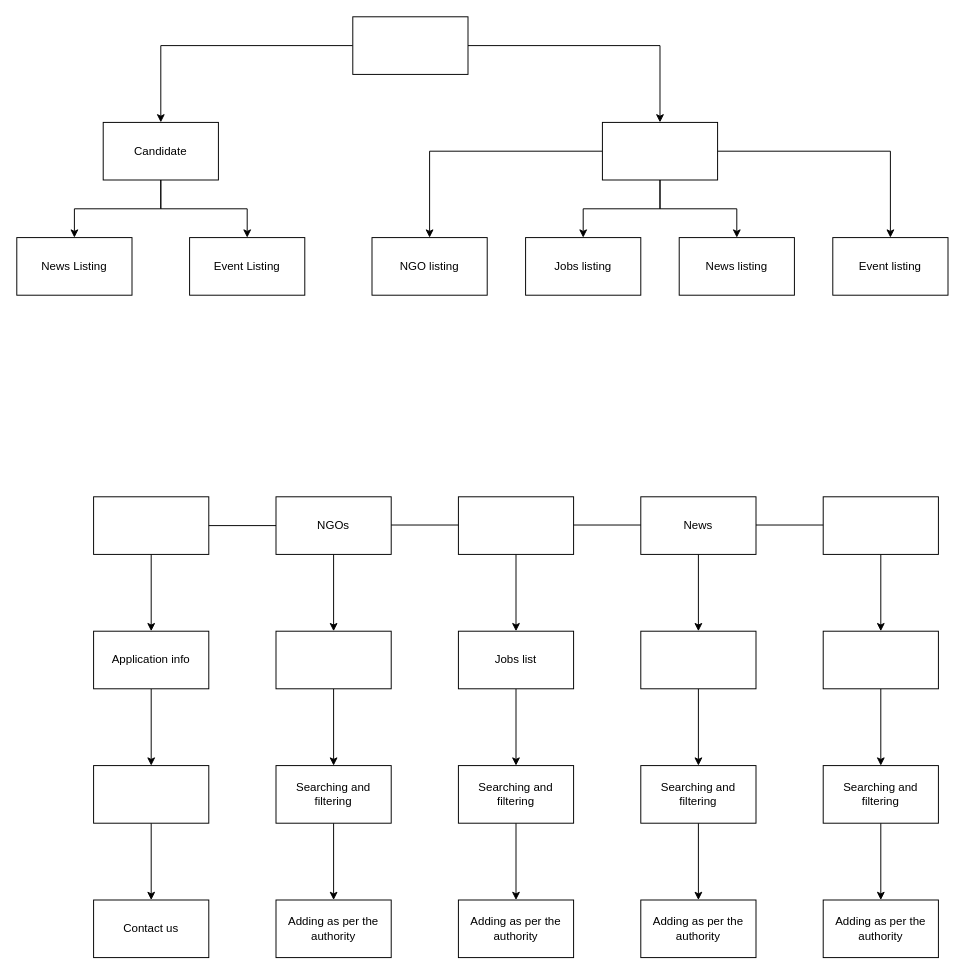
This 965x974 diagram has some shape labels left out. Each missing label, with the centre of its shape:
Events: pixel 880 525
Events list: pixel 880 659
Home: pixel 151 525
Jobs: pixel 515 525
Login/Register: pixel 410 45
News list: pixel 698 659
NGO: pixel 659 150
NGO list: pixel 333 659
Overview of each and every category: pixel 151 794
